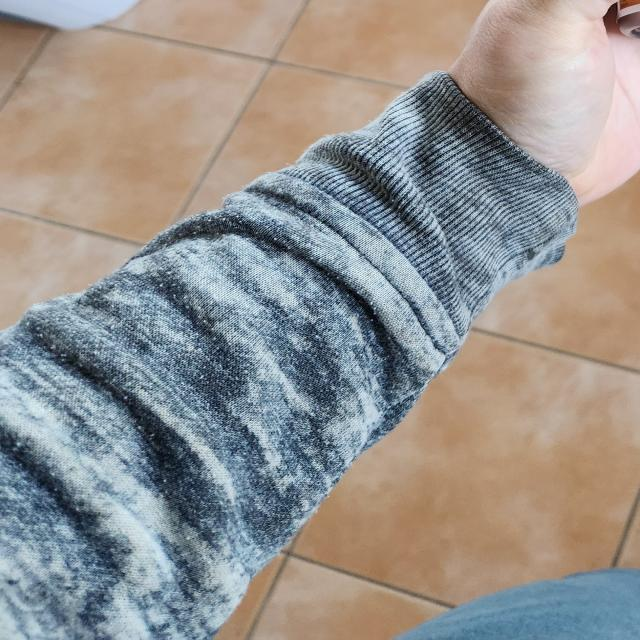chicken: (608, 0, 640, 46)
